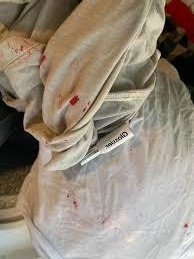blood: (69, 93, 79, 108)
